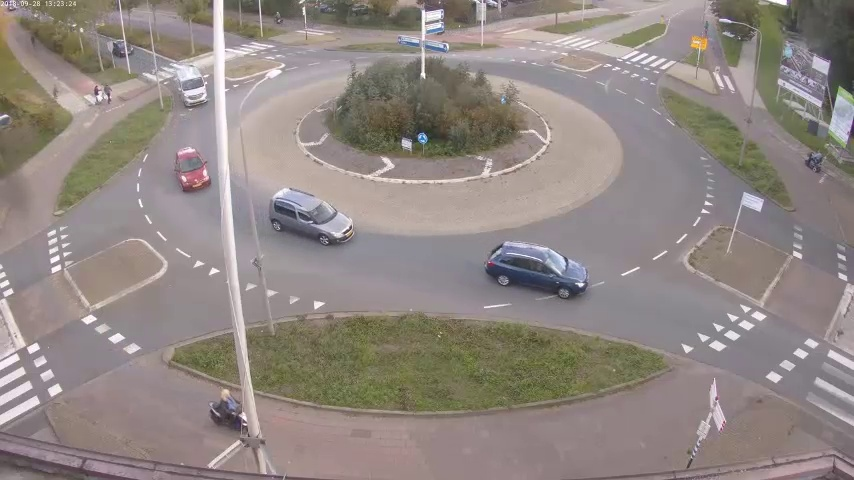bicycle: (806, 152, 819, 174)
car: (485, 235, 592, 296), (266, 183, 353, 252), (171, 147, 206, 196), (110, 32, 135, 57)
motorcycle: (211, 386, 253, 438)
person: (101, 73, 115, 109), (89, 83, 104, 104)
van: (173, 60, 209, 116)
